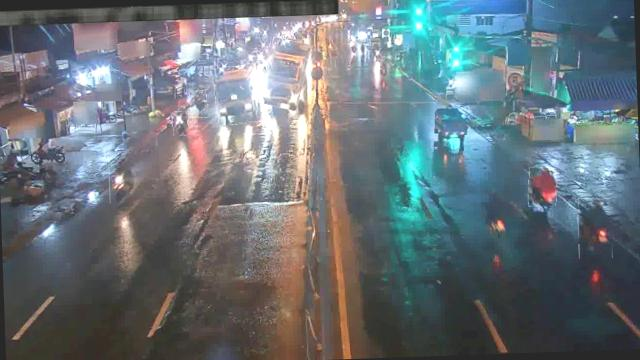Bike: (577, 198, 613, 259), (108, 154, 136, 204), (528, 167, 557, 207), (190, 89, 208, 118), (172, 110, 188, 136)
Bus: (212, 64, 262, 126)
Truck: (262, 38, 310, 110)
